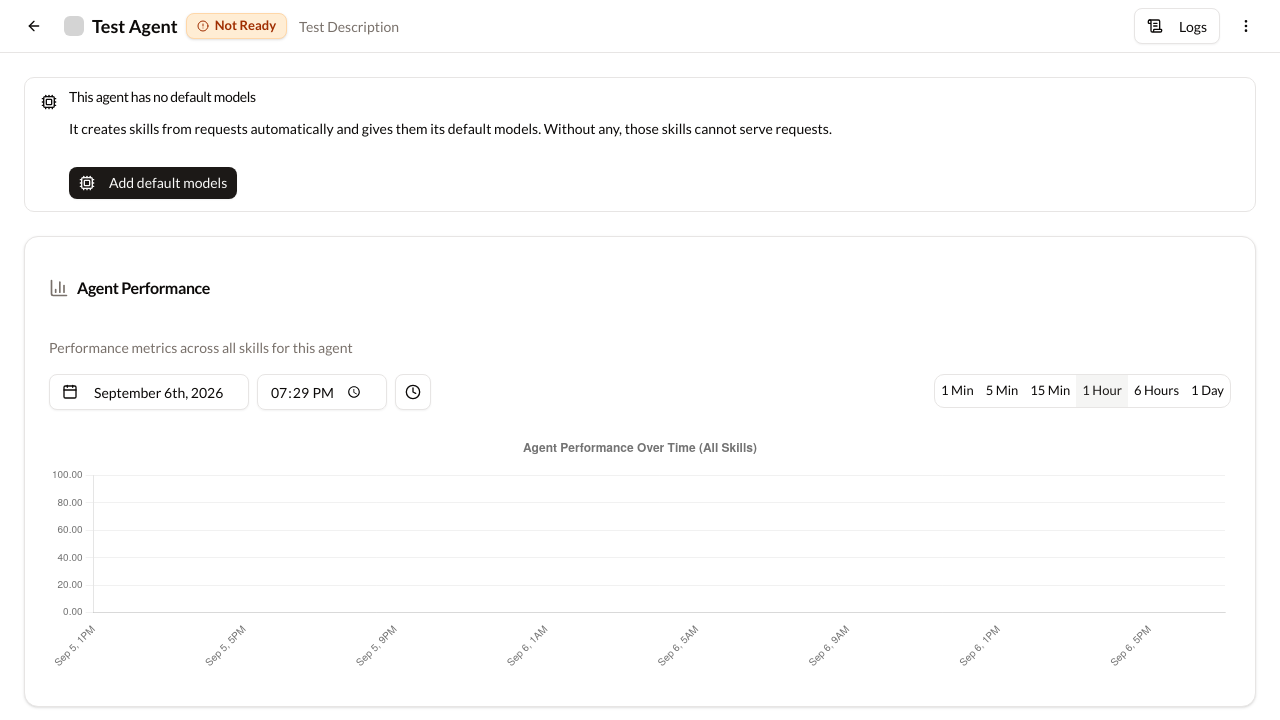
Test: SkillsListView › offers the default models dialog from the agent menu
Click the button named "more options" at (1246, 26), box [1228,8,1264,44]
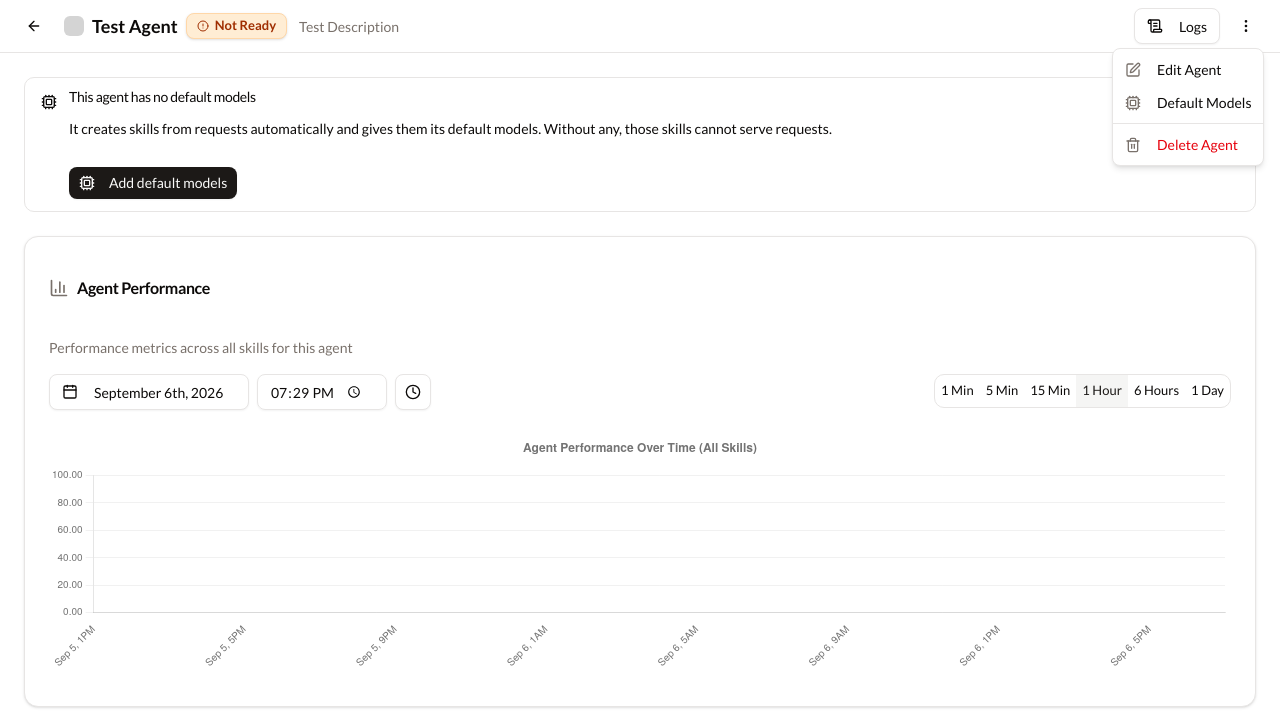
Now the menu item "Default Models" is shown, box [1125,94,1252,111]
